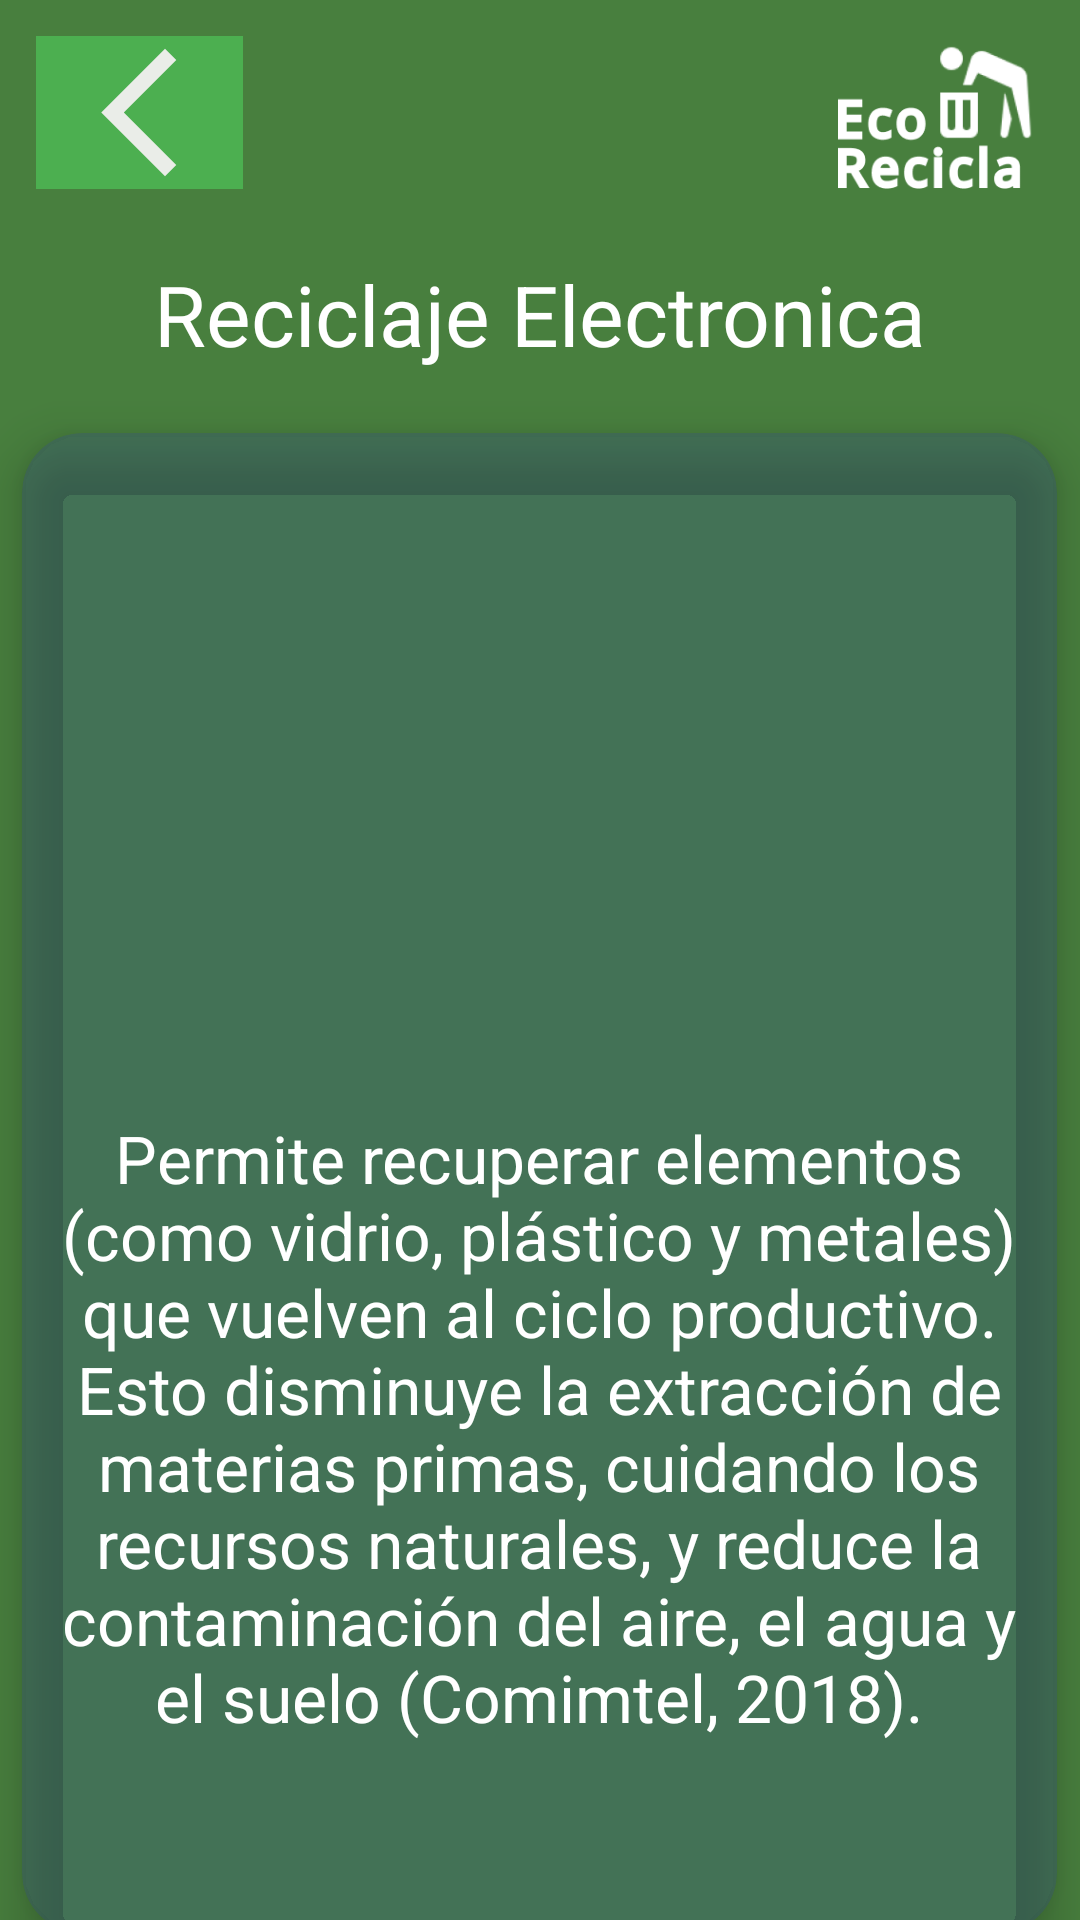

Point at icon controls on the screen. Image size 1080 × 1920, points as (x,y).
back: (139,112)
